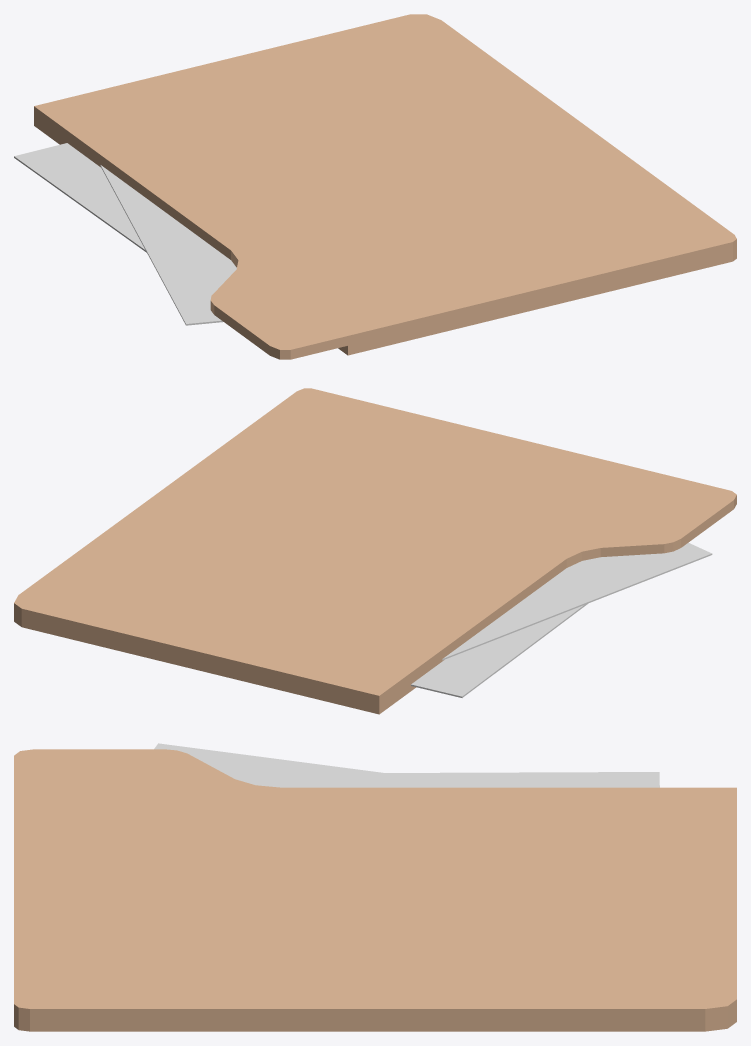
The picture shows the model from 3 angles, top to bottom: view 1: azimuth 30°, elevation 25°; view 2: azimuth 150°, elevation 25°; view 3: azimuth 270°, elevation 25°; orthographic projection. The views are drawn at different scales.
Parts seen in each view (by area): view 1: Cube, Plane, Plane.001; view 2: Cube, Plane, Plane.001; view 3: Cube, Plane, Plane.001.
Part boxes in pixels (x1,y1,x2,y2): Cube: [34, 14, 736, 359]; Plane: [100, 165, 236, 325]; Plane.001: [14, 143, 146, 252]; Cube: [14, 388, 736, 714]; Plane: [442, 543, 712, 660]; Plane.001: [411, 603, 587, 697]; Cube: [14, 749, 736, 1031]; Plane: [154, 743, 494, 787]; Plane.001: [386, 772, 659, 787].
Size of the model in its own units: 32.41 by 1.23 by 35.76.
